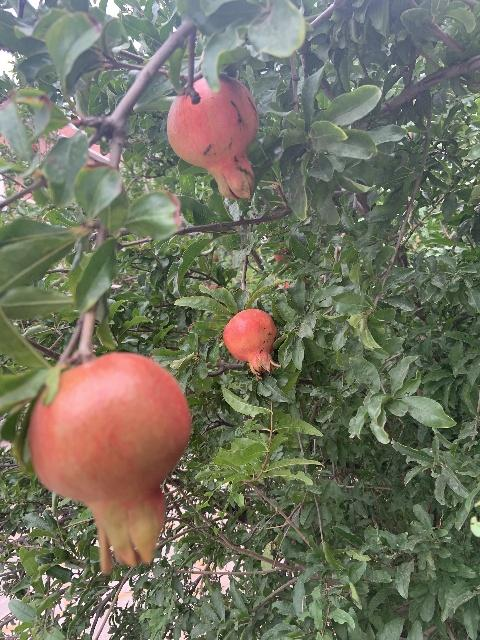ripe: (27, 352, 191, 573), (166, 75, 258, 198), (223, 308, 280, 379)
